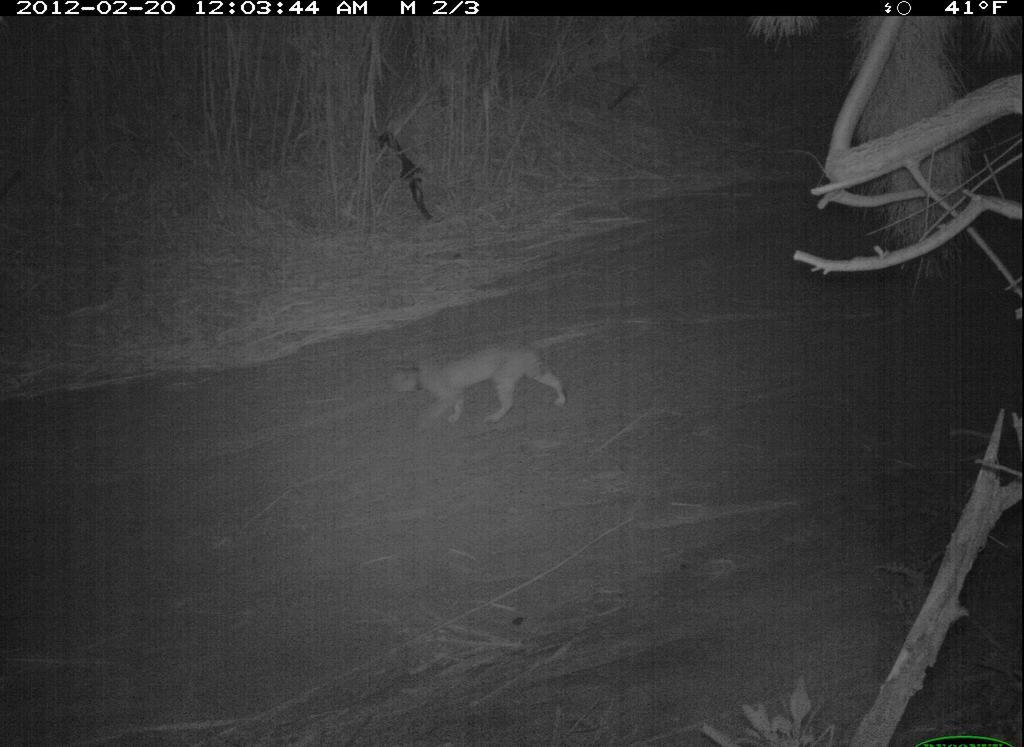bobcat: (378, 333, 571, 434)
